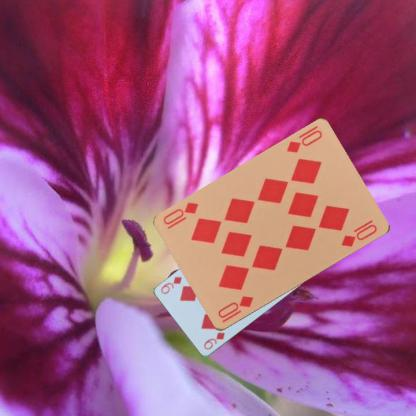10d: (284, 123, 324, 155), (215, 294, 255, 324)
9d: (200, 330, 226, 351)
